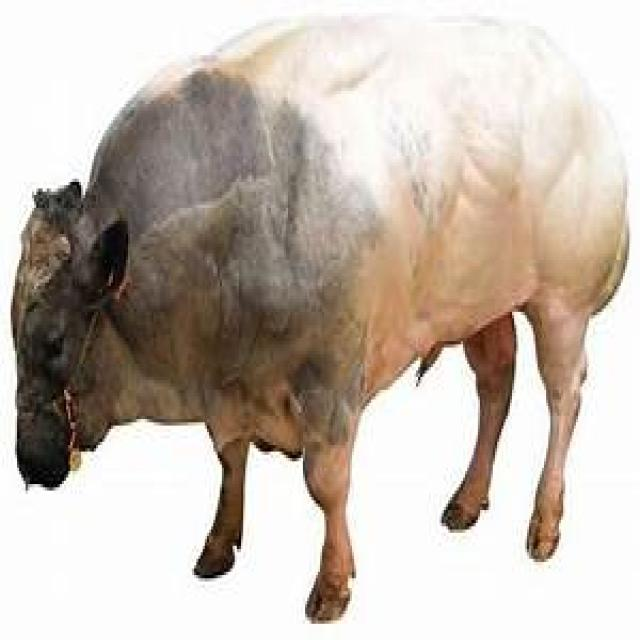cow: (12, 17, 629, 620)
